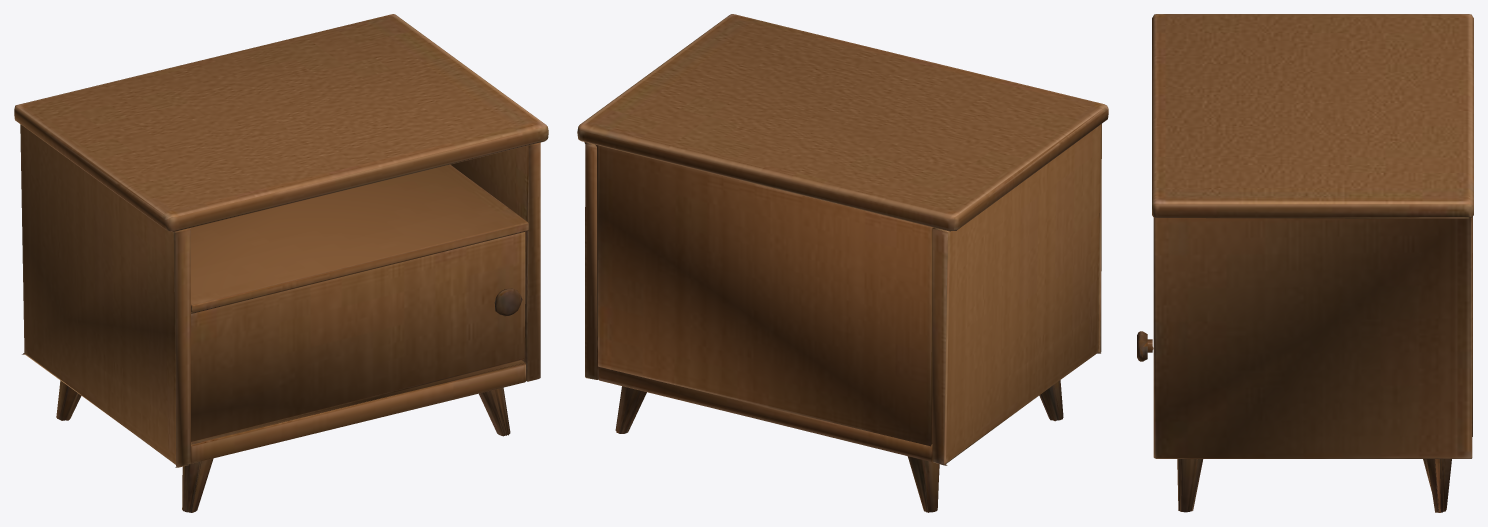
Rendered from bedside__3.glb.
The picture shows the model from 3 angles, left to right: view 1: azimuth 30°, elevation 25°; view 2: azimuth 150°, elevation 25°; view 3: azimuth 270°, elevation 25°; orthographic projection. The views are drawn at different scales.
Parts seen in each view (by area): view 1: Mesh_0.101; view 2: Mesh_0.101; view 3: Mesh_0.101.
Boxes of the visible parts, <box> form: Mesh_0.101: <box>14,14,548,512</box>; Mesh_0.101: <box>577,14,1108,512</box>; Mesh_0.101: <box>1137,14,1473,512</box>.
Bounding box in the file's own units: 0.7908 × 0.62 × 0.5856.
1 material, 1 textured.
